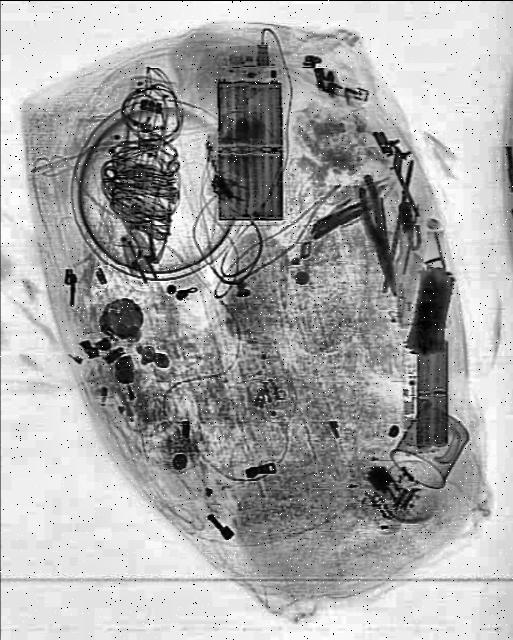Pliers: (352, 174, 410, 300)
